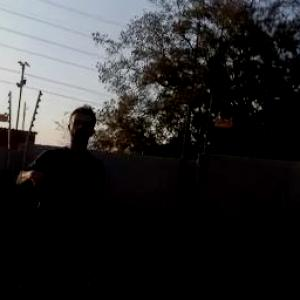follow: (0, 98, 110, 299)
